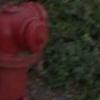Hydrant: (2, 2, 53, 100)
